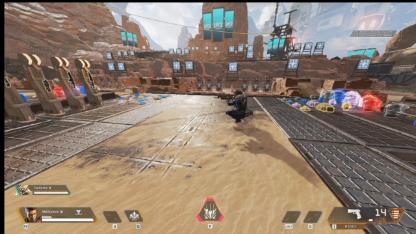Target: (228, 88, 250, 122)
